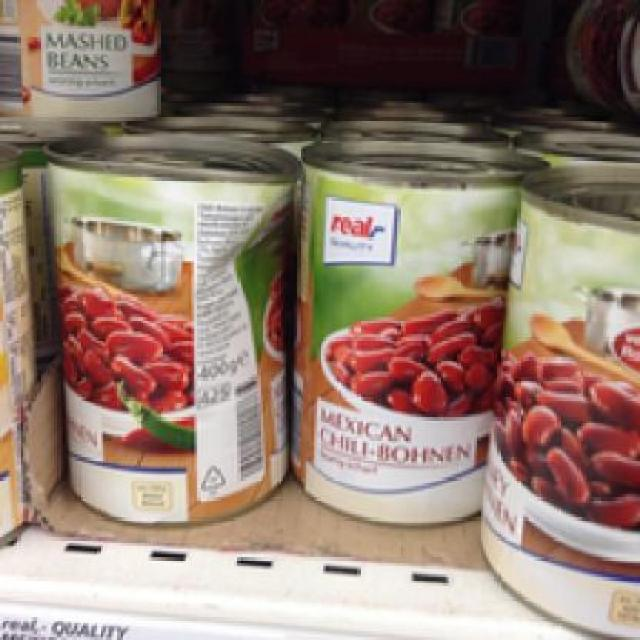Beans: (35, 132, 292, 534), (297, 137, 506, 534), (494, 166, 637, 634)
